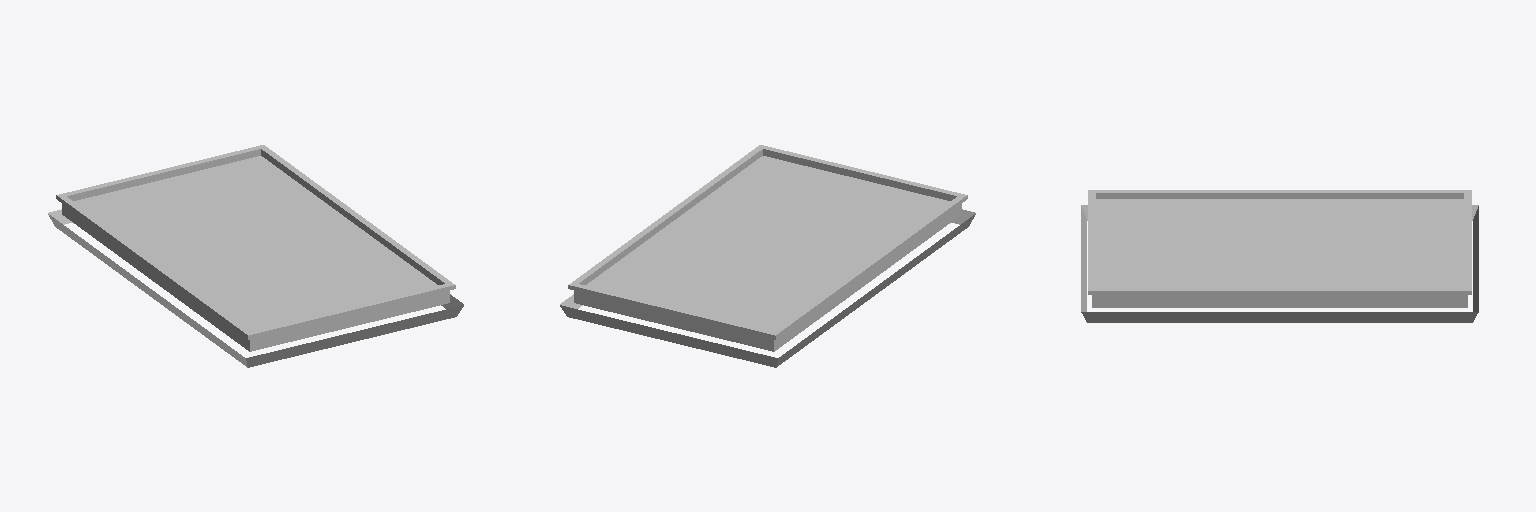
The model's file is city_edificio_arm10.obj.
3 renders of one model, left to right at view 1: azimuth 30°, elevation 25°; view 2: azimuth 150°, elevation 25°; view 3: azimuth 270°, elevation 25°, orthographic.
Parts seen in each view (by area): view 1: polySurface139; view 2: polySurface139; view 3: polySurface139.
Part boxes in pixels (x1,y1,x2,y2): polySurface139: (48, 145, 463, 367); polySurface139: (560, 145, 975, 367); polySurface139: (1081, 190, 1478, 322).
Size of the model in its own units: 11.51 by 1.6 by 18.09.